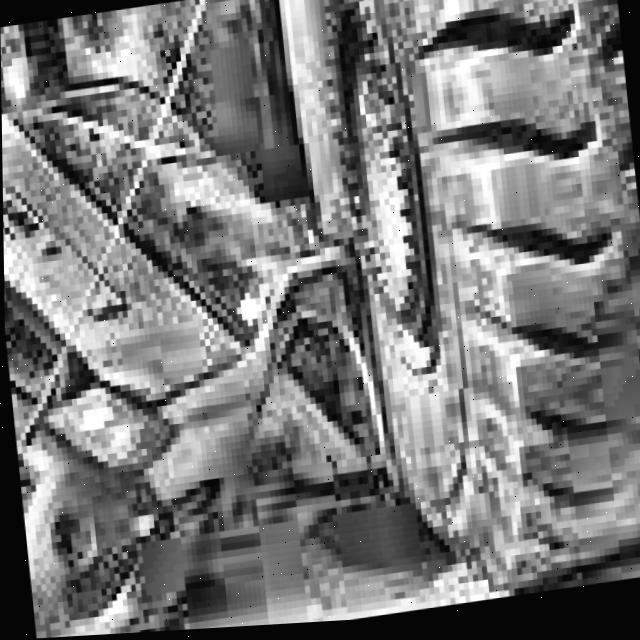light_vehicle: (0, 0, 437, 640)
